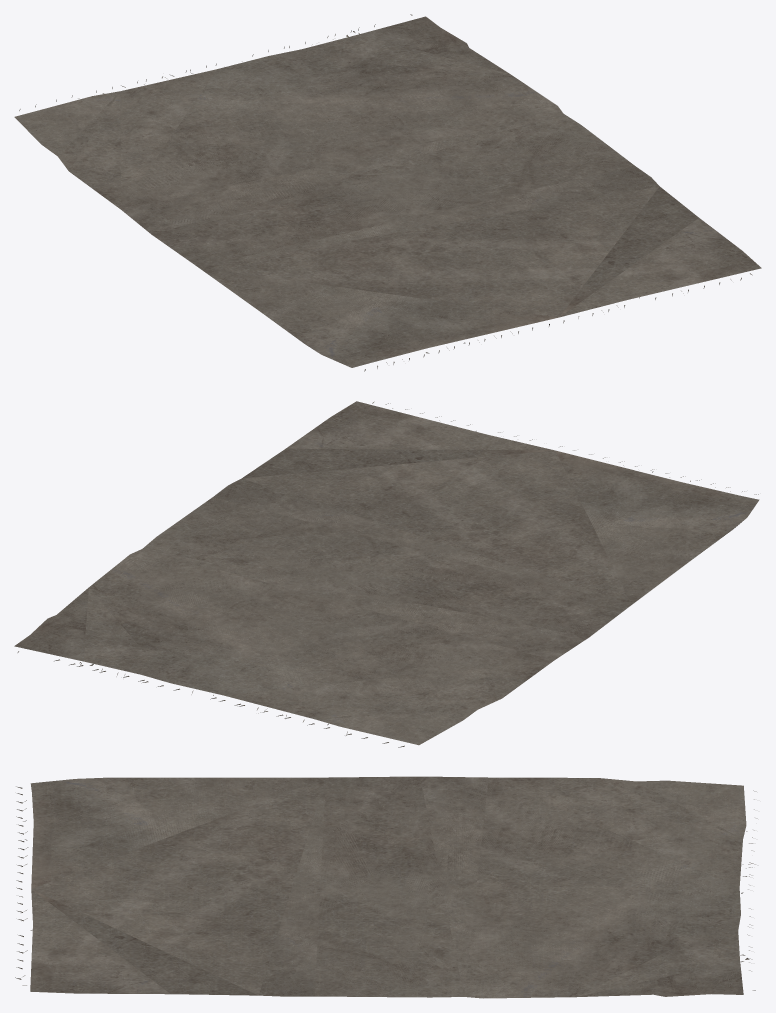
Rendered from SM_Rug.fbx.
The picture shows the model from 3 angles, top to bottom: view 1: azimuth 30°, elevation 25°; view 2: azimuth 150°, elevation 25°; view 3: azimuth 270°, elevation 25°; orthographic projection. The views are drawn at different scales.
Visible parts, largest first — view 1: SM_Rug_LOD0; view 2: SM_Rug_LOD0; view 3: SM_Rug_LOD0.
Boxes of the visible parts, box(x1,y1,x2,y2) form: SM_Rug_LOD0: box(14, 14, 761, 371); SM_Rug_LOD0: box(14, 401, 759, 747); SM_Rug_LOD0: box(15, 776, 757, 998).
Size of the model in its own units: 443 by 630 by 5.45.
